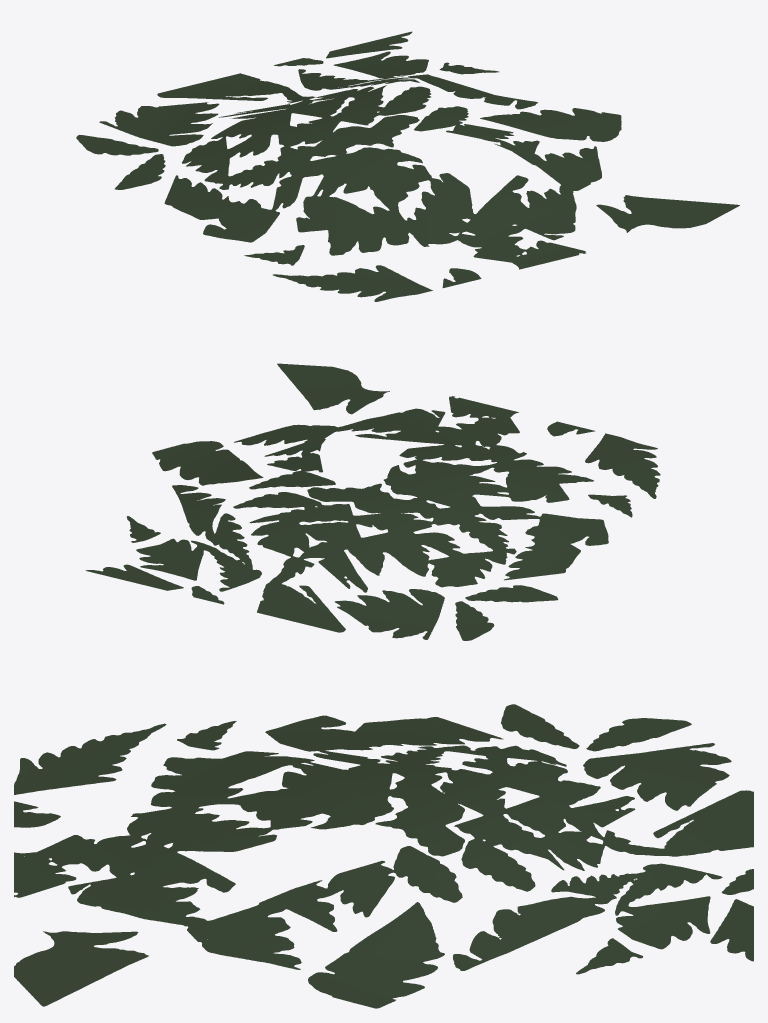
File: Samabaia_Cozinha_Final.fbx
3 views of the same model, one above another, from view 1: azimuth 30°, elevation 25°; view 2: azimuth 150°, elevation 25°; view 3: azimuth 270°, elevation 25° (orthographic). The views are drawn at different scales.
Visible parts, largest first — view 1: Plane; view 2: Plane; view 3: Plane.
Part boxes in pixels (x1,y1,x2,y2): Plane: (76,31,739,301); Plane: (85,363,660,640); Plane: (14,704,753,1008).
Bounding box in the file's own units: 90.24 × 4.41 × 90.24.
Materials: 1 (1 with a texture image).
